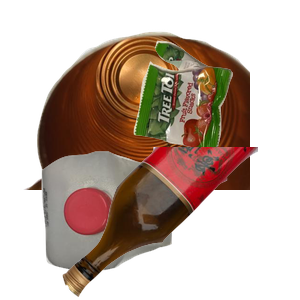glass: (60, 147, 300, 300)
metal: (21, 29, 261, 209)
plastic: (39, 149, 203, 300)
trash: (131, 38, 300, 182)
